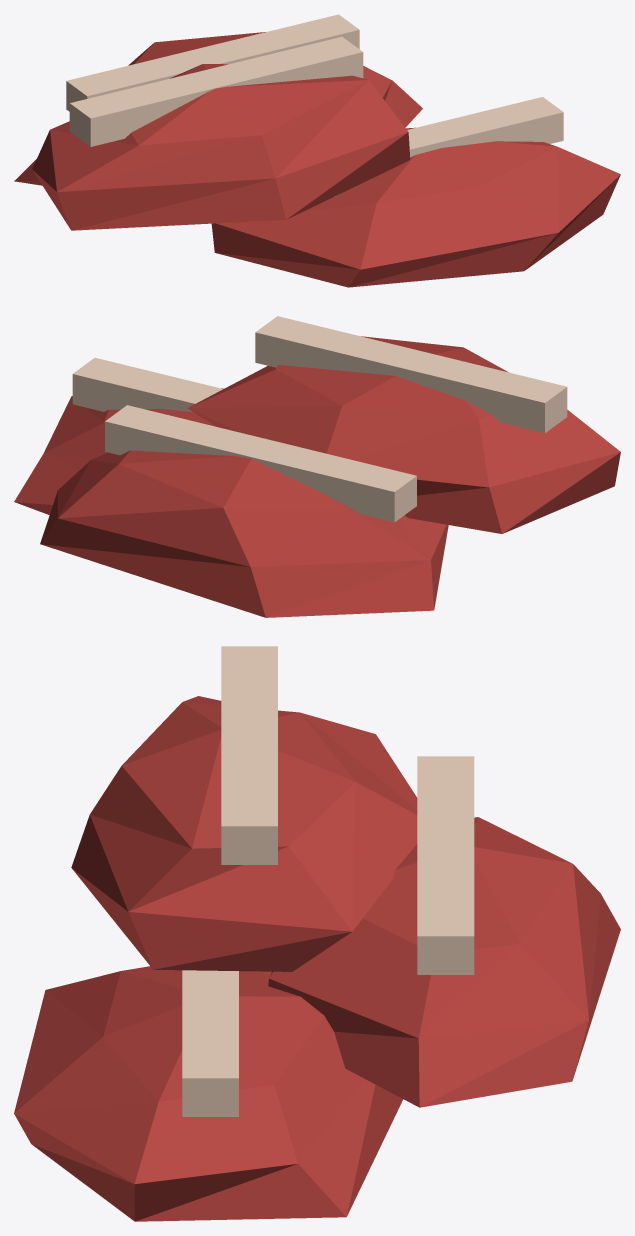
File: food_meat.obj
3 renders of one model, top to bottom at view 1: azimuth 30°, elevation 25°; view 2: azimuth 150°, elevation 25°; view 3: azimuth 270°, elevation 25°, orthographic. The views are drawn at different scales.
Parts seen in each view (by area): view 1: food_meat; view 2: food_meat; view 3: food_meat.
Boxes of the visible parts, <box> form: food_meat: <box>14,14,620,287</box>; food_meat: <box>14,316,620,617</box>; food_meat: <box>14,646,620,1221</box>.
Bounding box in the file's own units: 0.5949 × 0.2 × 0.4271.
